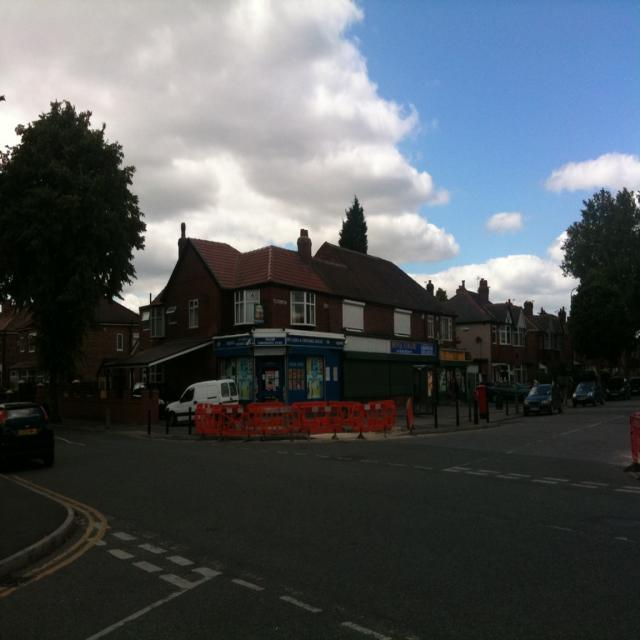car: (0, 399, 51, 467), (520, 377, 564, 416), (571, 375, 605, 411)
